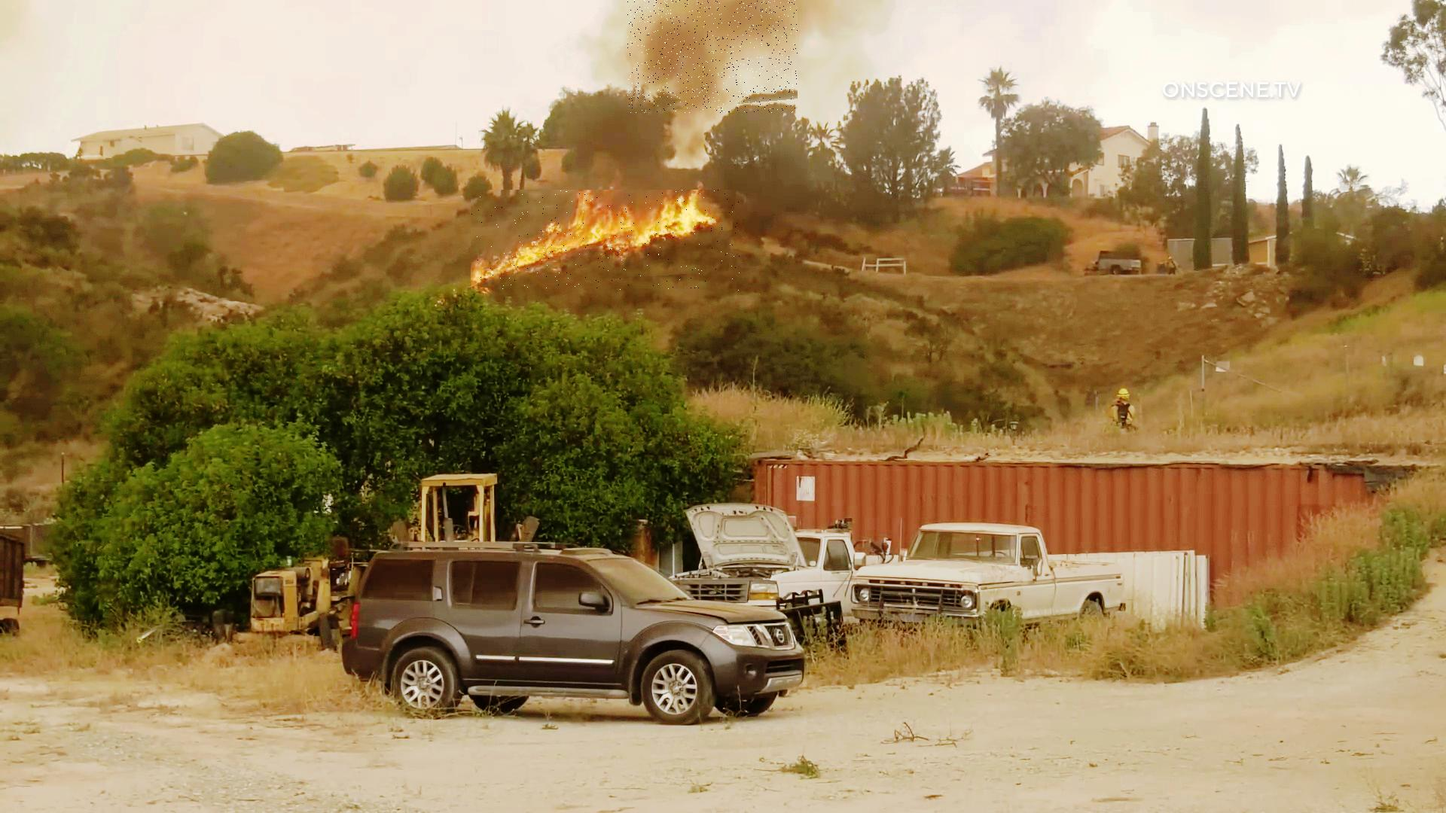fire: (471, 190, 740, 291)
smoke: (628, 0, 798, 113)
